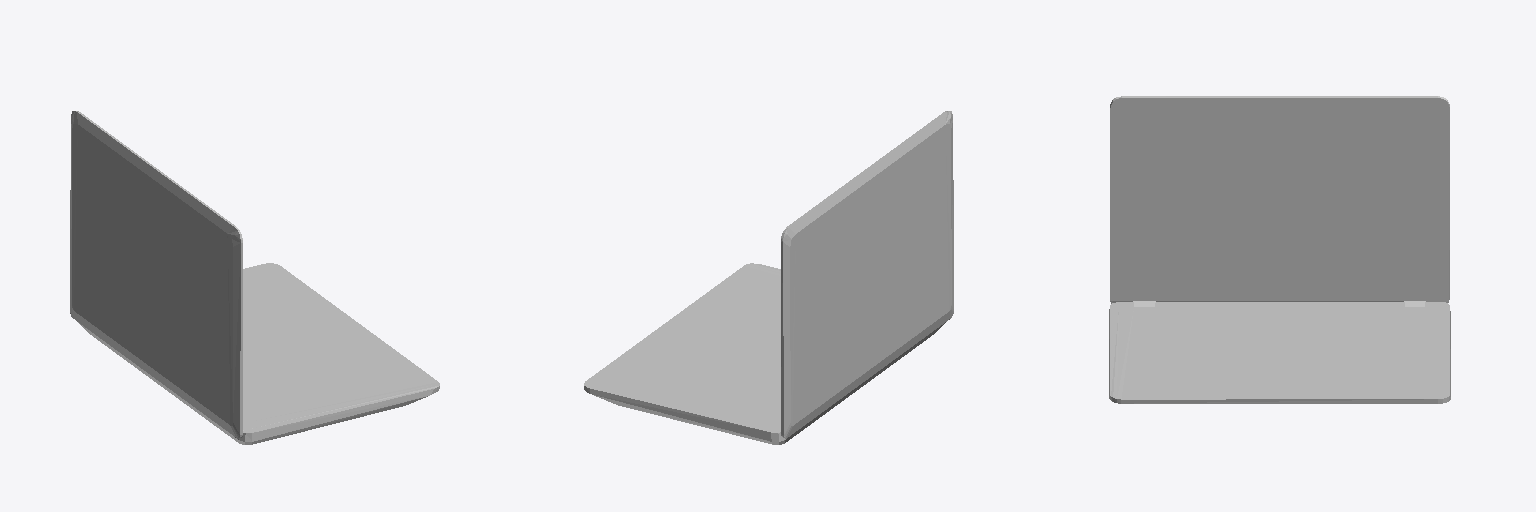
The model's file is laptop.obj.
The picture shows the model from 3 angles: view 1: azimuth 30°, elevation 25°; view 2: azimuth 150°, elevation 25°; view 3: azimuth 270°, elevation 25°; orthographic projection.
Visible parts, largest first — view 1: Lowpoly_Notebook_Cube.001; view 2: Lowpoly_Notebook_Cube.001; view 3: Lowpoly_Notebook_Cube.001.
Part boxes in pixels (left/top/right/bottom): Lowpoly_Notebook_Cube.001: left=70, top=111, right=439, bottom=444; Lowpoly_Notebook_Cube.001: left=584, top=111, right=953, bottom=444; Lowpoly_Notebook_Cube.001: left=1109, top=96, right=1450, bottom=403.
Bounding box in the file's own units: 2.29 × 2.34 × 3.27.